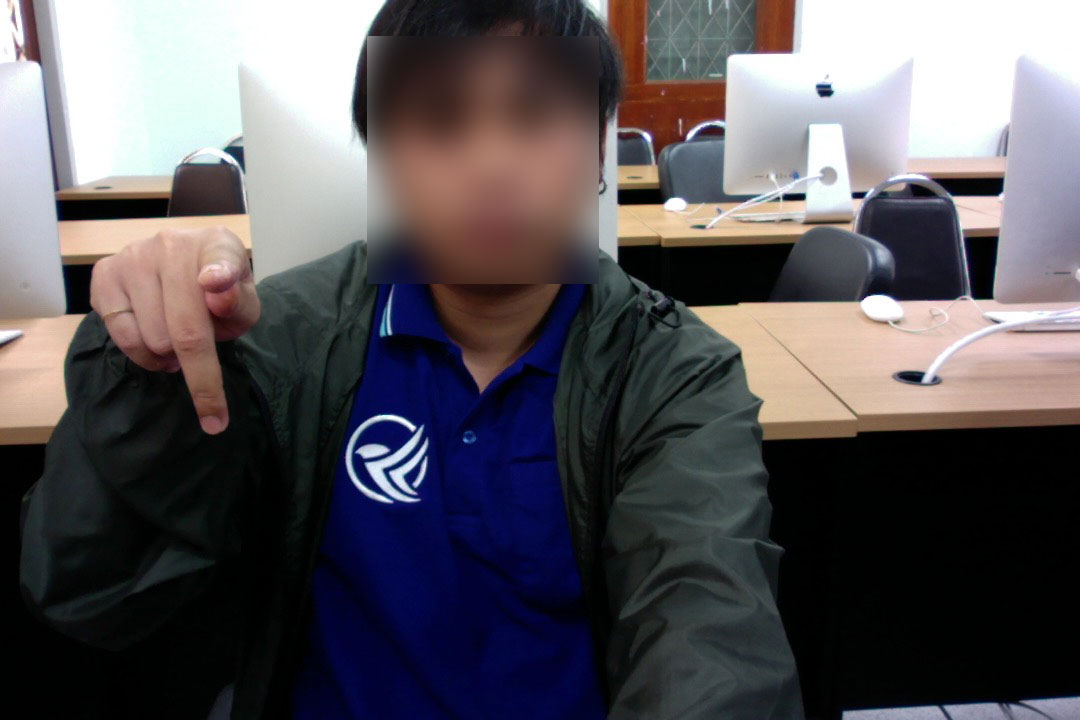por: (79, 206, 267, 447)
